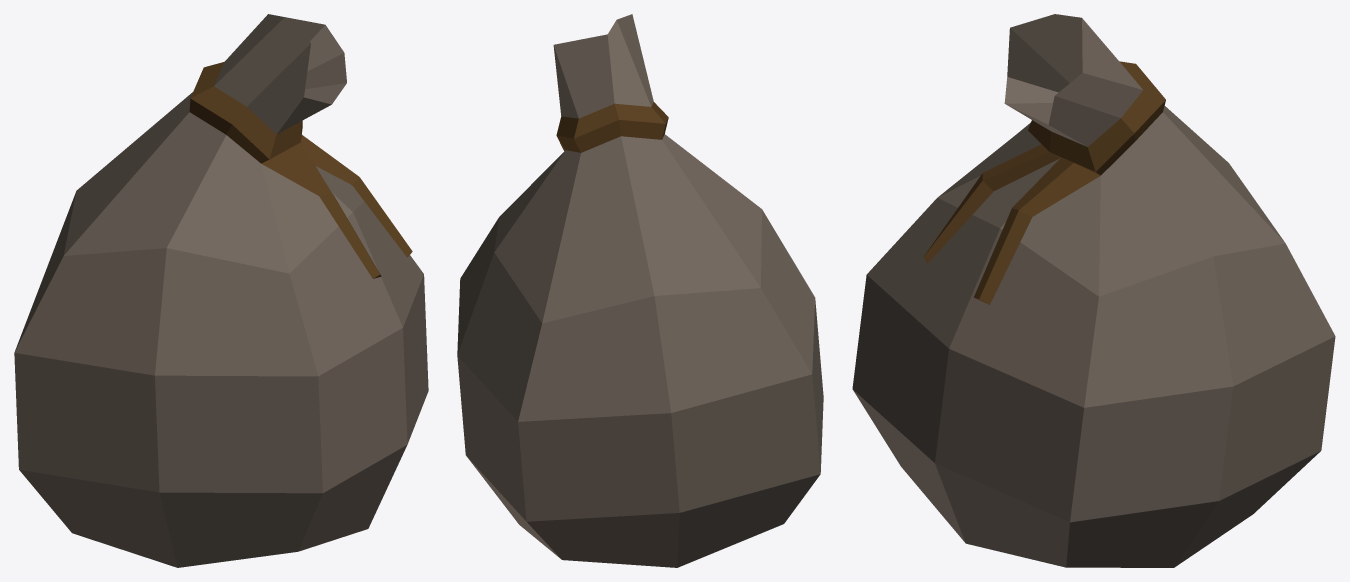
Rendered from bag.glb.
The picture shows the model from 3 angles, left to right: view 1: azimuth 30°, elevation 25°; view 2: azimuth 150°, elevation 25°; view 3: azimuth 270°, elevation 25°; orthographic projection. The views are drawn at different scales.
Visible parts, largest first — view 1: bag.001; view 2: bag.001; view 3: bag.001.
Boxes of the visible parts, box(x1,y1,x2,y2) form: bag.001: box(14, 14, 428, 567); bag.001: box(457, 14, 823, 567); bag.001: box(852, 14, 1335, 567).
Size of the model in its own units: 1.19 by 1.46 by 1.21.
